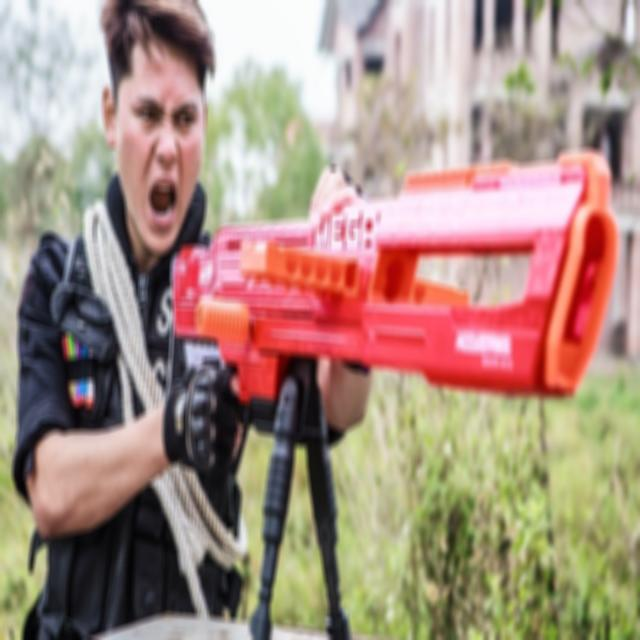Nerf gun: (161, 142, 633, 638)
